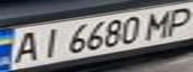0: (118, 14, 148, 44)
6: (63, 20, 90, 54), (87, 19, 109, 52)
8: (103, 16, 127, 48)
A: (6, 29, 45, 64)
I: (33, 25, 66, 58)
M: (139, 7, 178, 39)
P: (160, 3, 193, 37)
